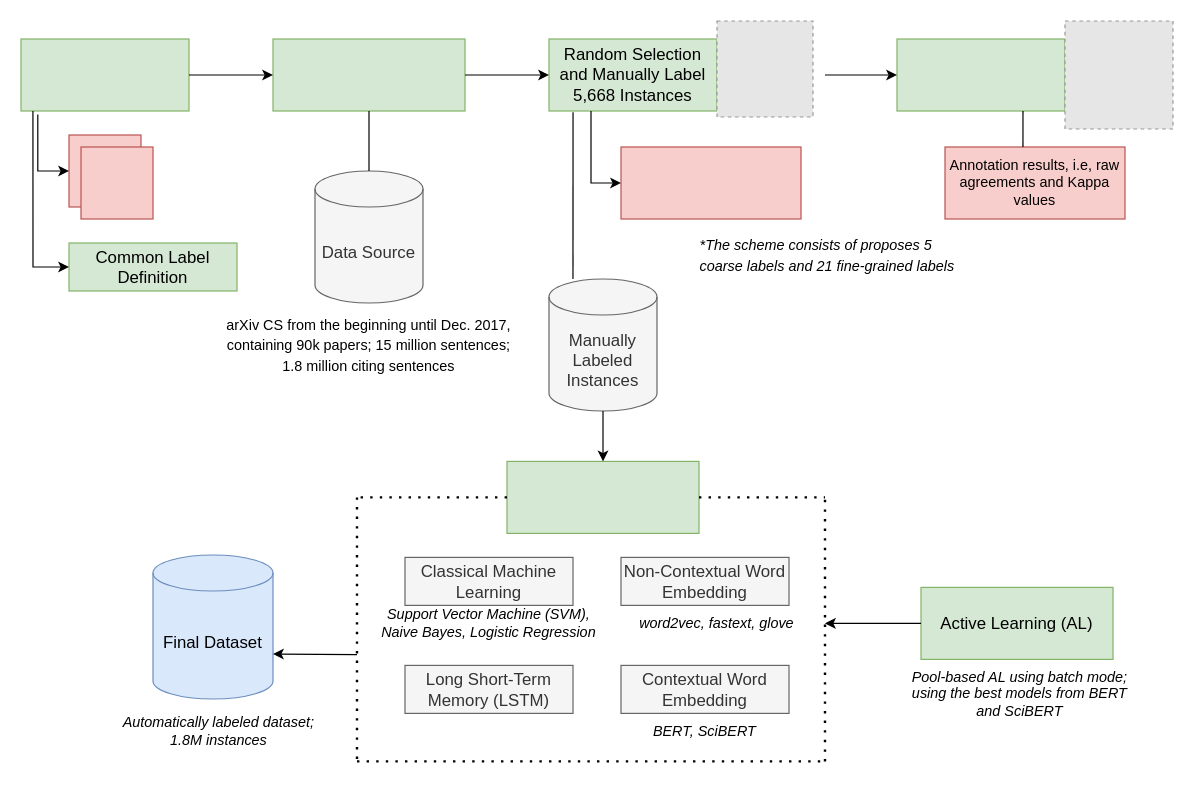
The diagram is 1194 pixels wide and 785 high, and some of its shapes have lost their labels. Grey dashed boxes stand in for pictures. Here are the shapes that lost their labels. From the top down, the centre of each, then its label:
At (104,74): "Identify Existing Schemes".
At (368,74): "Enlarging Dataset and Research Scopes".
At (980,74): "Annotation Experiment over 421 Samples".
At (116,182): ".pdf".
At (710,182): "Final version of proposed scheme and annotation guidance".
At (602,496): "Text Classification Stages".
